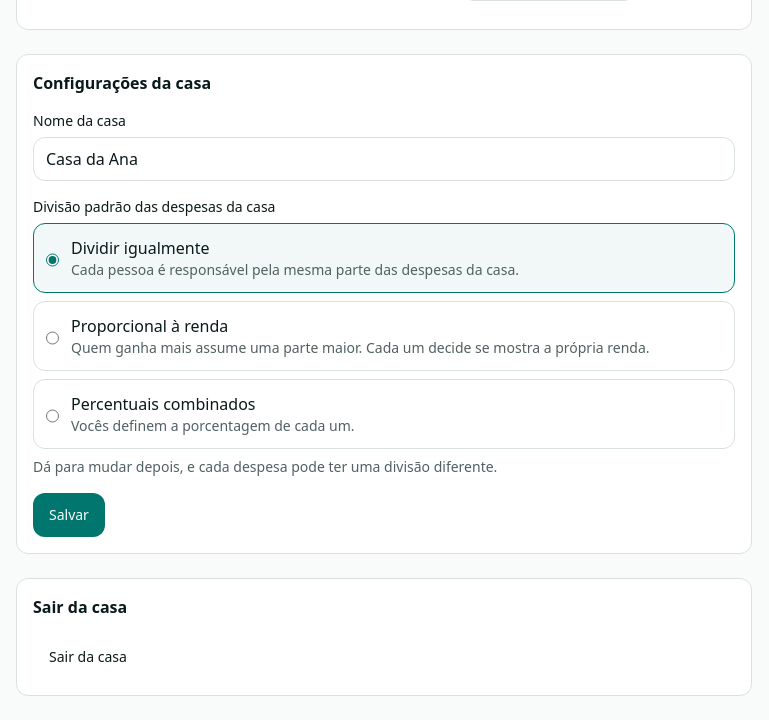
Test: households onboarding › validates custom percentages before saving
(page scrolled)
Click the radio button labelled "Percentuais combinados" at (52, 416), box [46,396,59,436]
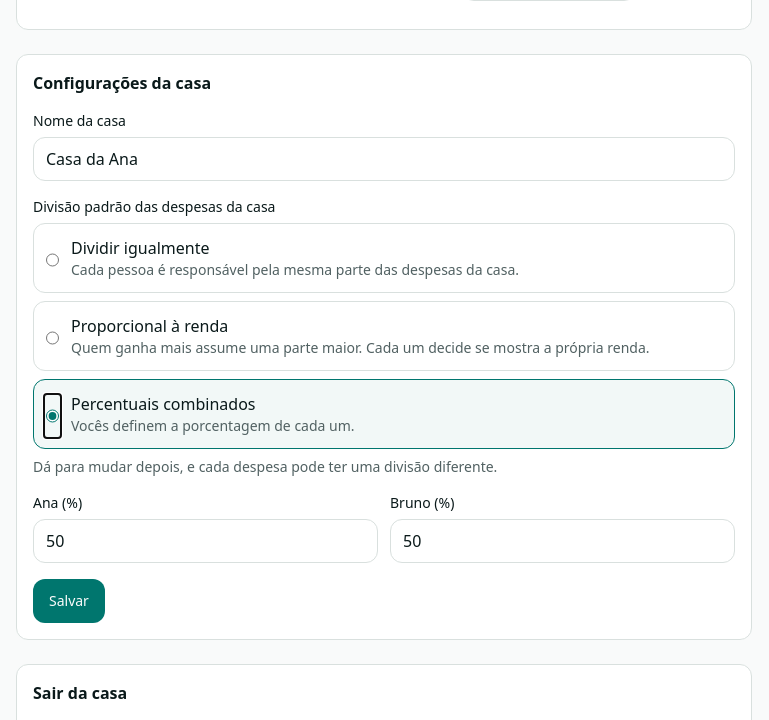
Replace the text in the number field labelled "Ana (%)" with "70" at (206, 541), box [33,519,378,563]
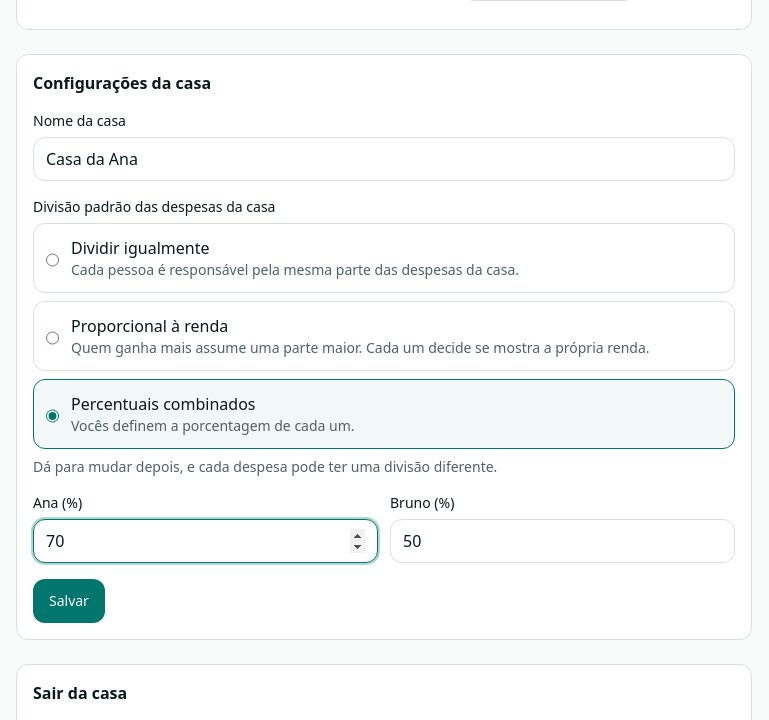
Click the button "Salvar" at (69, 601), box [33,579,105,623]
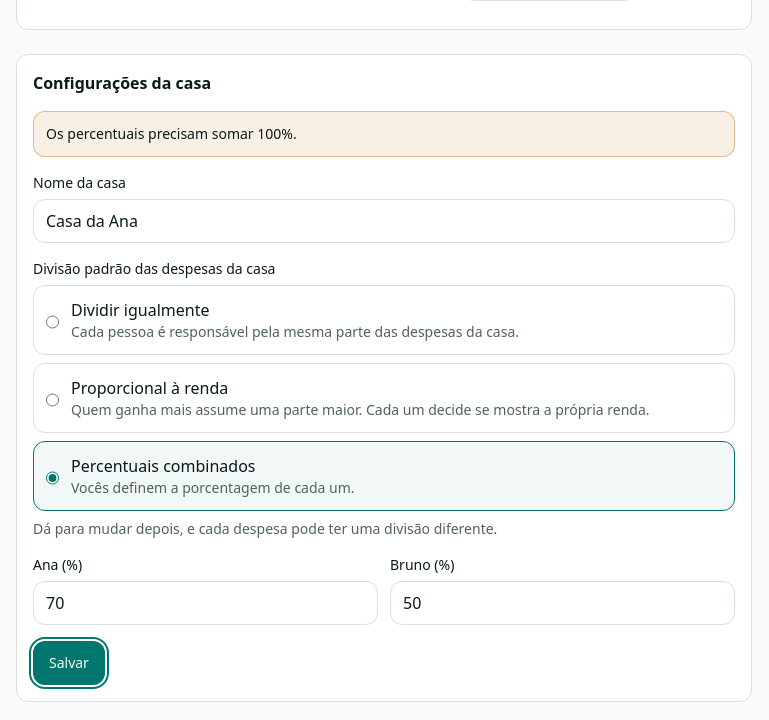
Result: the text "Os percentuais precisam somar 100%." is shown at [33,111,735,157]
